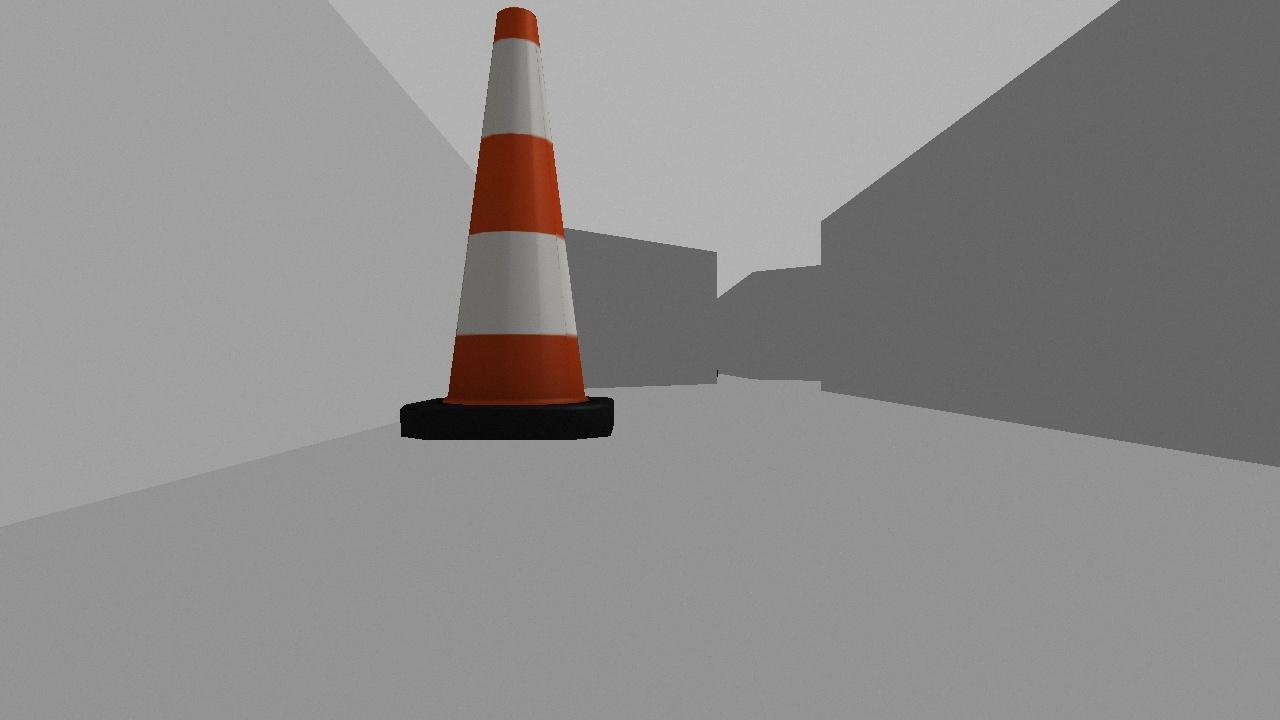cone_barrel: (399, 4, 614, 439)
